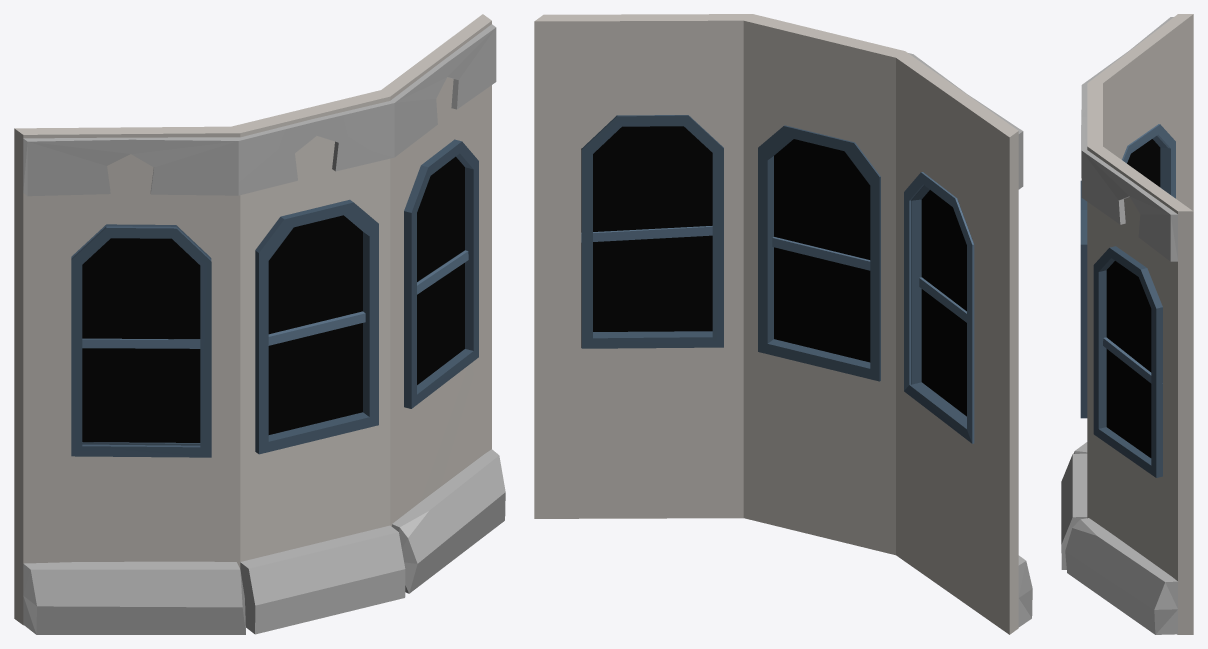
File: _BALKON_02_1.fbx
3 views of the same model, side by side, from view 1: azimuth 30°, elevation 25°; view 2: azimuth 150°, elevation 25°; view 3: azimuth 270°, elevation 25° (orthographic). The views are drawn at different scales.
Visible parts, largest first — view 1: BALKON_02_1; view 2: BALKON_02_1; view 3: BALKON_02_1.
Part boxes in pixels (x1,y1,x2,y2): BALKON_02_1: (14,14,505,634); BALKON_02_1: (534,14,1032,634); BALKON_02_1: (1061,14,1193,634).
Size of the model in its own units: 300 by 300 by 84.9.
